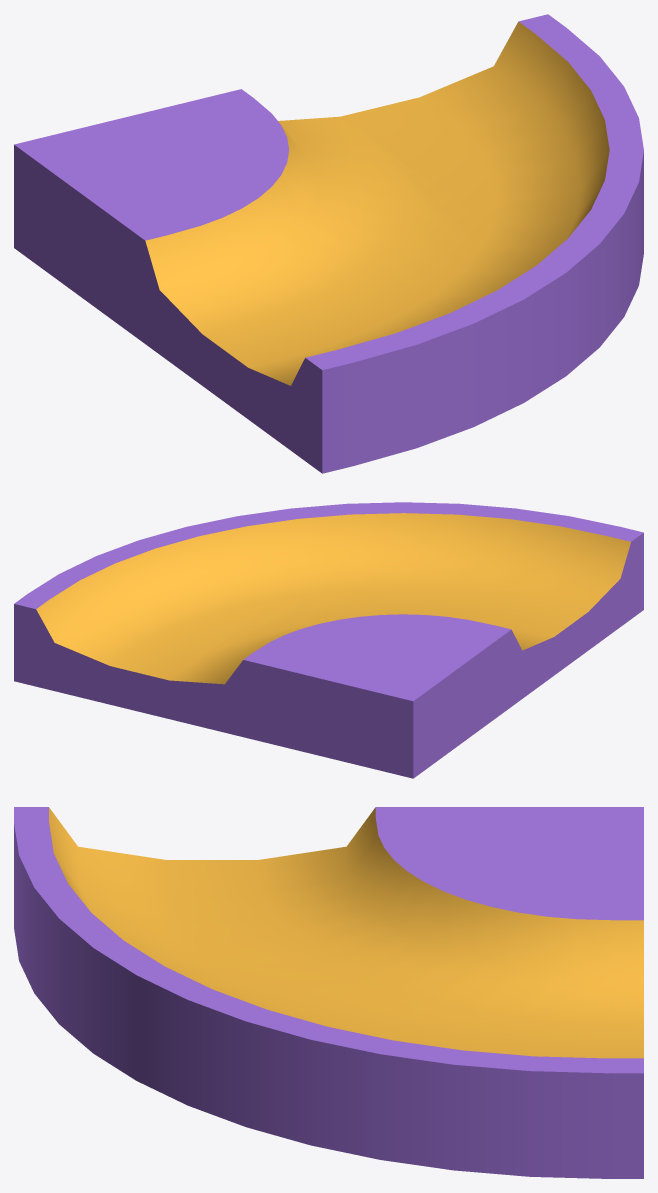
Rendered from curve-wide-solid-medium-col.glb.
3 renders of one model, top to bottom at view 1: azimuth 30°, elevation 25°; view 2: azimuth 150°, elevation 25°; view 3: azimuth 270°, elevation 25°, orthographic. The views are drawn at different scales.
Parts seen in each view (by area): view 1: curve-wide-solid-medium-col; view 2: curve-wide-solid-medium-col; view 3: curve-wide-solid-medium-col.
Part boxes in pixels (x1=…): curve-wide-solid-medium-col: x1=14, y1=14, x2=643, y2=473; curve-wide-solid-medium-col: x1=14, y1=502, x2=643, y2=778; curve-wide-solid-medium-col: x1=14, y1=807, x2=643, y2=1178.
Bounding box in the file's own units: 2.7 × 0.5 × 2.7.
1 material, 1 textured.
